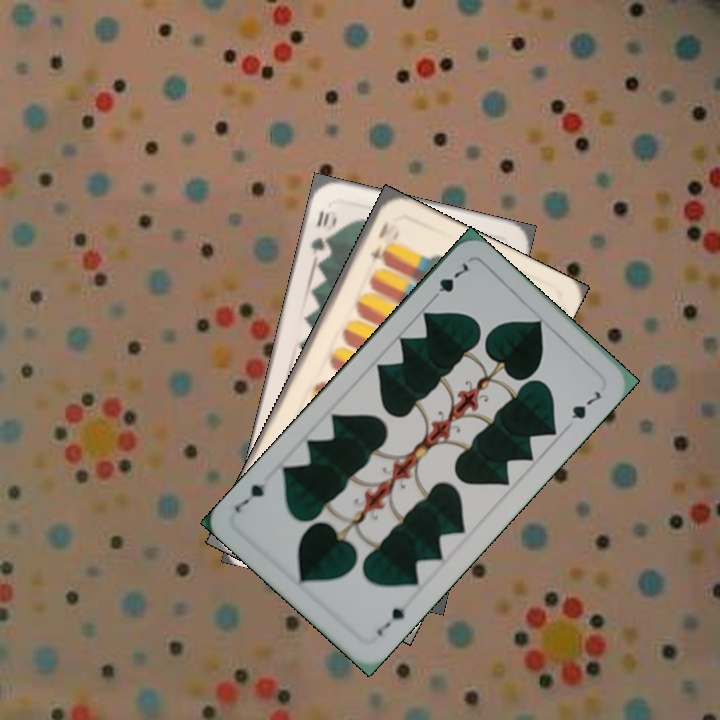E10: (364, 216, 394, 270)
G10: (307, 206, 338, 259)
G7: (425, 256, 471, 305), (373, 603, 408, 639)
